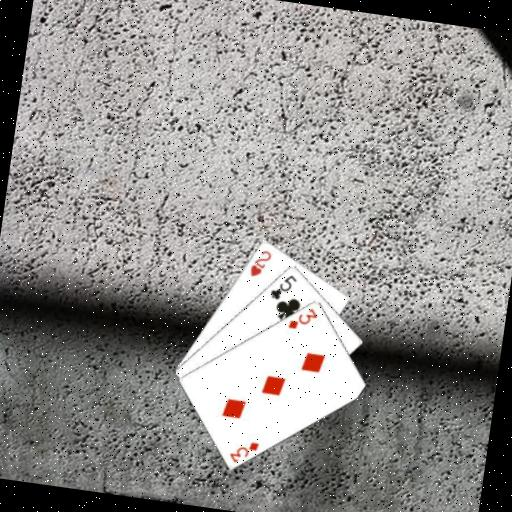2H: (246, 245, 274, 280)
3D: (285, 302, 321, 334), (226, 436, 261, 467)
5C: (267, 269, 299, 303)
